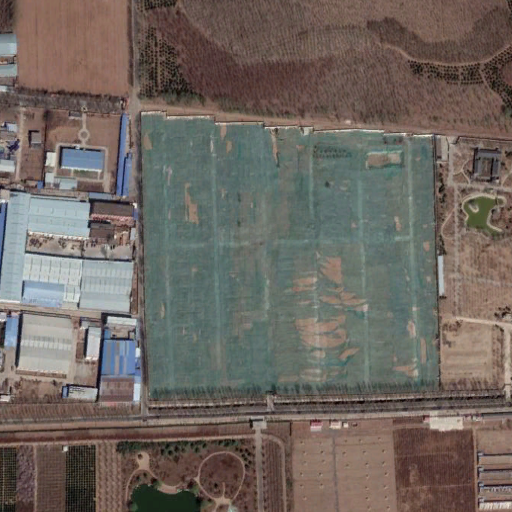cw: (139, 112, 439, 400)
